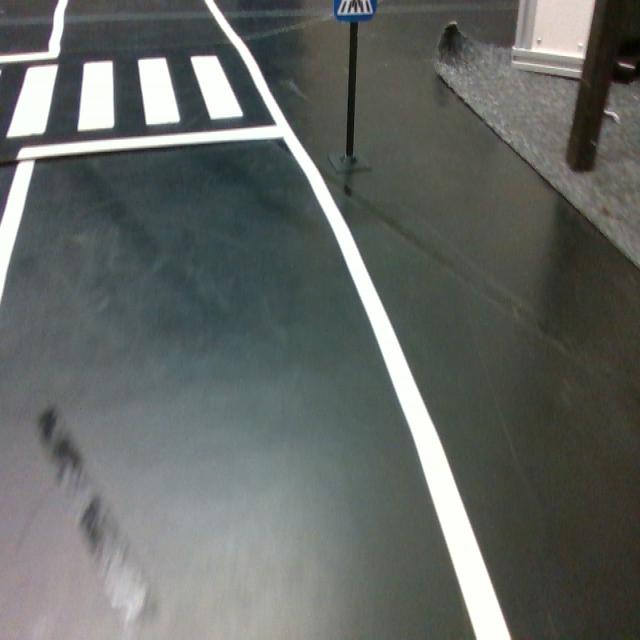crosswalk-sign: (332, 0, 376, 21)
